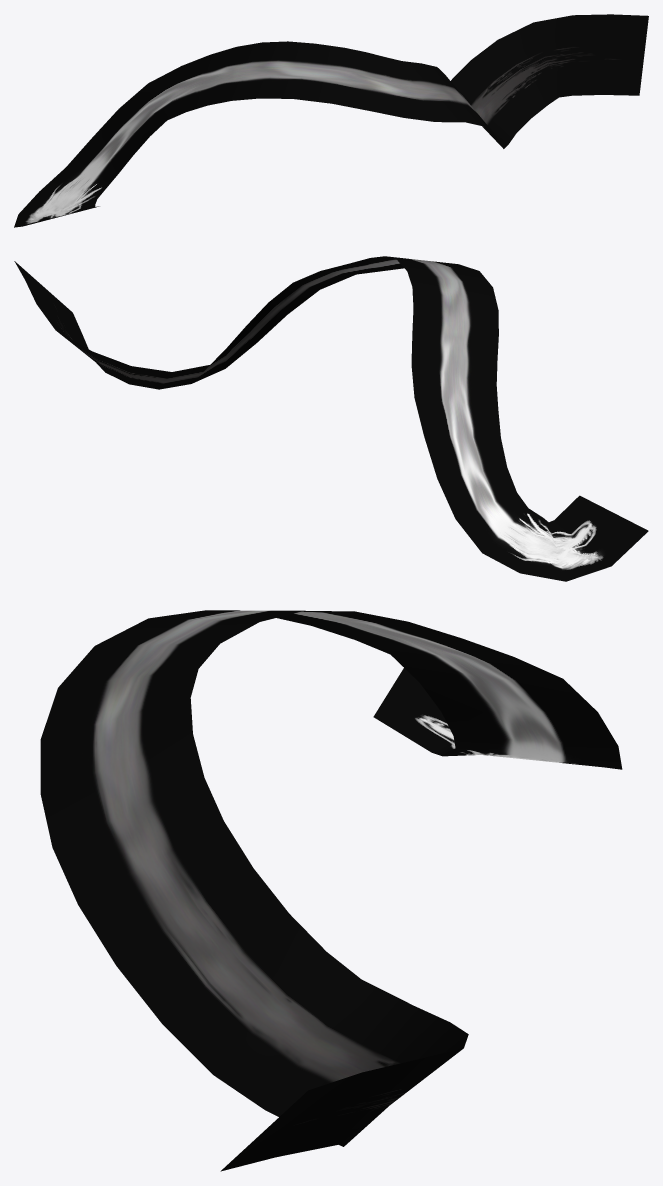
The model's file is WK_juqitiaodai02.FBX.
The picture shows the model from 3 angles, top to bottom: view 1: azimuth 30°, elevation 25°; view 2: azimuth 150°, elevation 25°; view 3: azimuth 270°, elevation 25°; orthographic projection. The views are drawn at different scales.
Visible parts, largest first — view 1: WK_juqitiaodai02; view 2: WK_juqitiaodai02; view 3: WK_juqitiaodai02.
Boxes of the visible parts, x1,y1,x2,y2 form: WK_juqitiaodai02: (14,14,648,227); WK_juqitiaodai02: (14,256,648,581); WK_juqitiaodai02: (40,610,622,1171).
Bounding box in the file's own units: 588 × 161 × 246.
